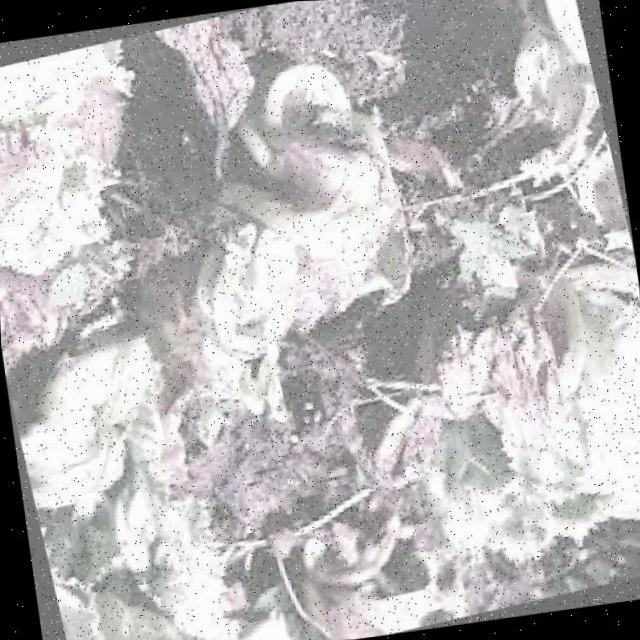Septoria_Blight: (150, 46, 414, 378)
